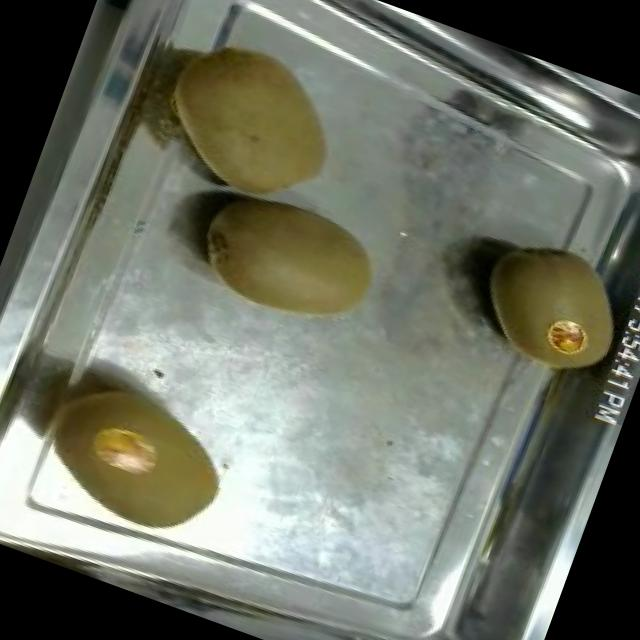Fruit: (134, 12, 366, 230), (31, 362, 246, 558), (176, 165, 400, 352), (456, 219, 640, 392)
